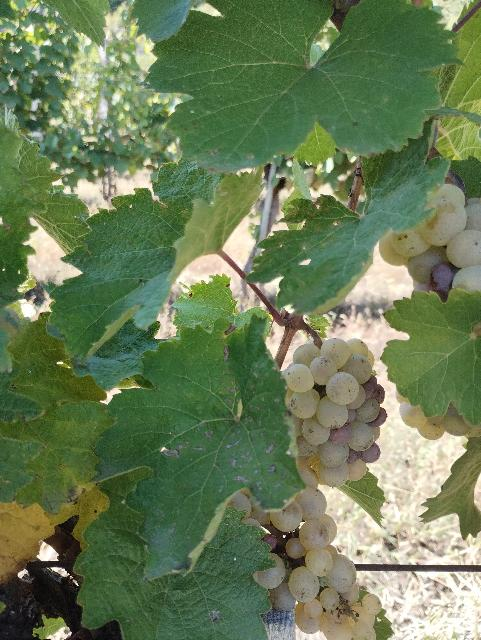grapes: (229, 485, 382, 640), (285, 339, 386, 488)
